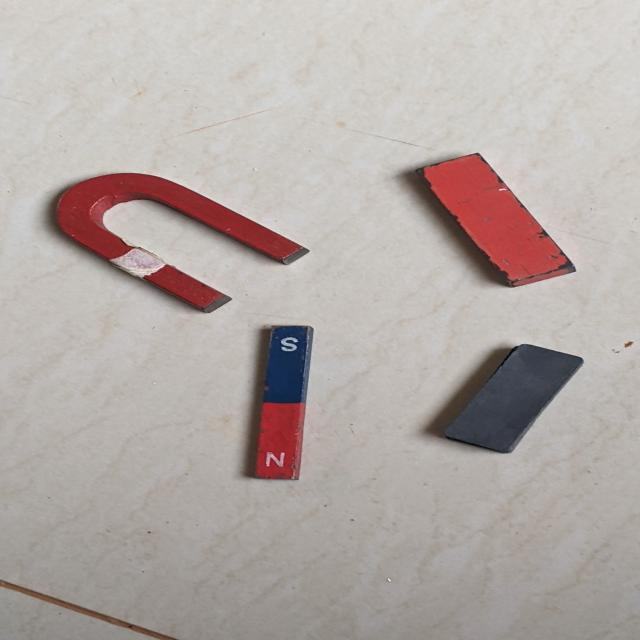Magnet: (44, 116, 616, 490)
